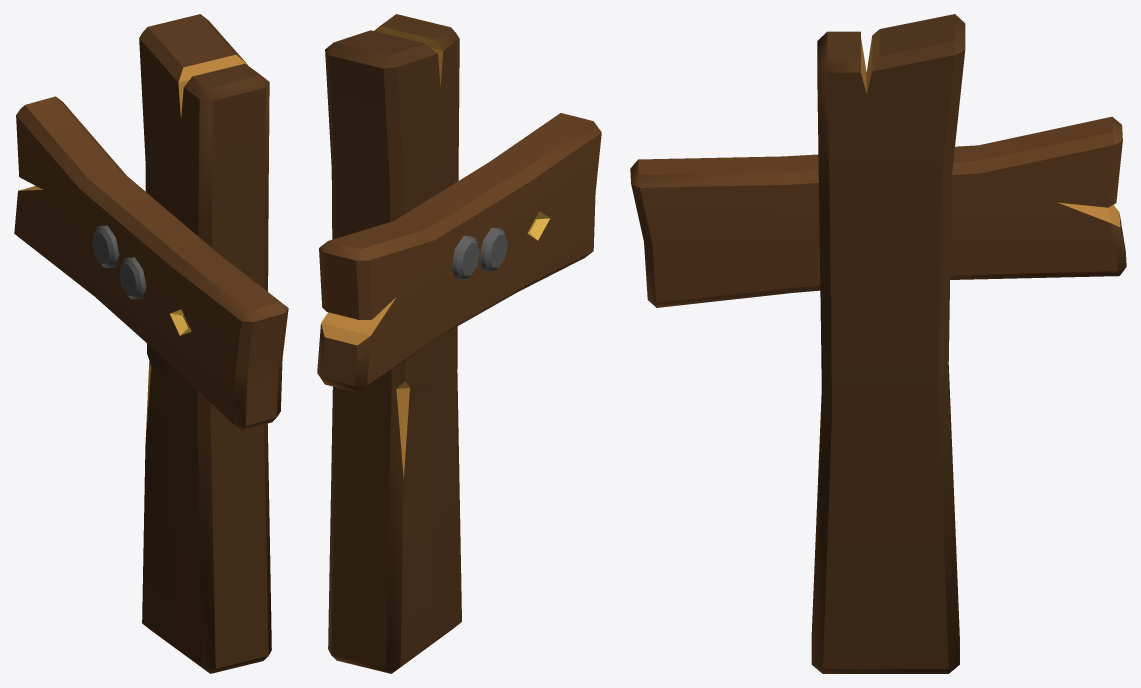
The model's file is Cross_3_2.obj.
3 renders of one model, left to right at view 1: azimuth 30°, elevation 25°; view 2: azimuth 150°, elevation 25°; view 3: azimuth 270°, elevation 25°, orthographic. The views are drawn at different scales.
Parts seen in each view (by area): view 1: Cross_3_2; view 2: Cross_3_2; view 3: Cross_3_2.
Part boxes in pixels (x1,y1,x2,y2): Cross_3_2: (14,14,288,673); Cross_3_2: (317,14,601,673); Cross_3_2: (630,14,1126,673).
Bounding box in the file's own units: 0.2142 × 0.9854 × 0.7006.
